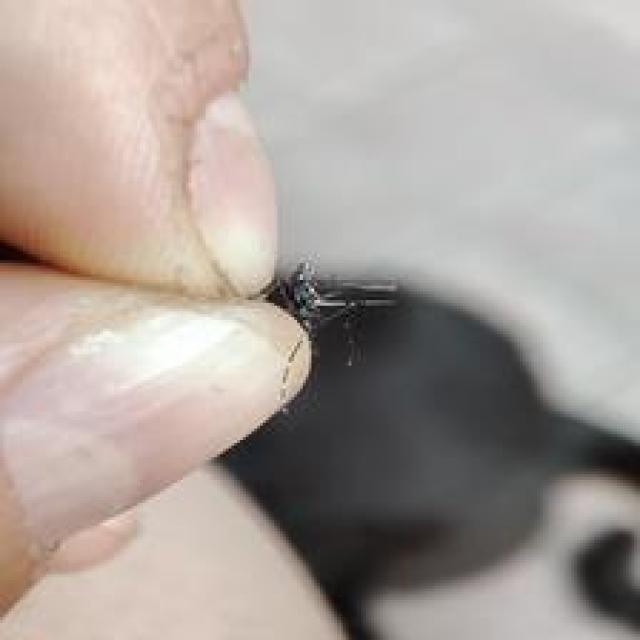Aedes albopictus: (211, 257, 640, 640)
